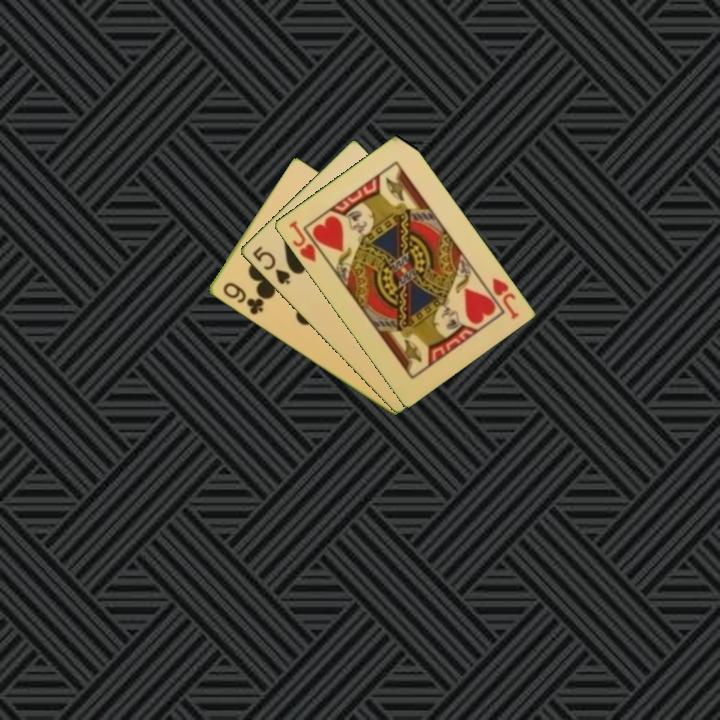5s: (249, 243, 293, 288)
9c: (219, 279, 266, 318)
Jh: (285, 217, 328, 265), (488, 274, 522, 322)
